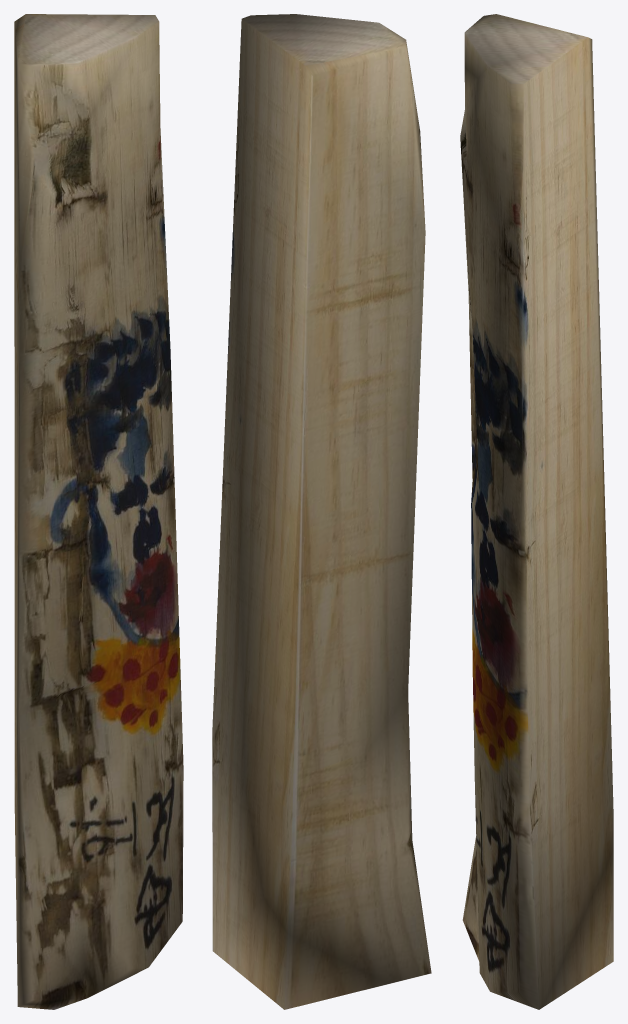
Rendered from 484_GP_HGS_124.obj.
3 views of the same model, side by side, from view 1: azimuth 30°, elevation 25°; view 2: azimuth 150°, elevation 25°; view 3: azimuth 270°, elevation 25° (orthographic).
Parts seen in each view (by area): view 1: 484_GP_HGS_124; view 2: 484_GP_HGS_124; view 3: 484_GP_HGS_124.
Part boxes in pixels (x1,y1,x2,y2): 484_GP_HGS_124: (14,14,183,1009); 484_GP_HGS_124: (212,14,431,1009); 484_GP_HGS_124: (460,14,613,1009).
Size of the model in its own units: 59.88 by 286 by 42.63.
Materials: 1 (1 with a texture image).
